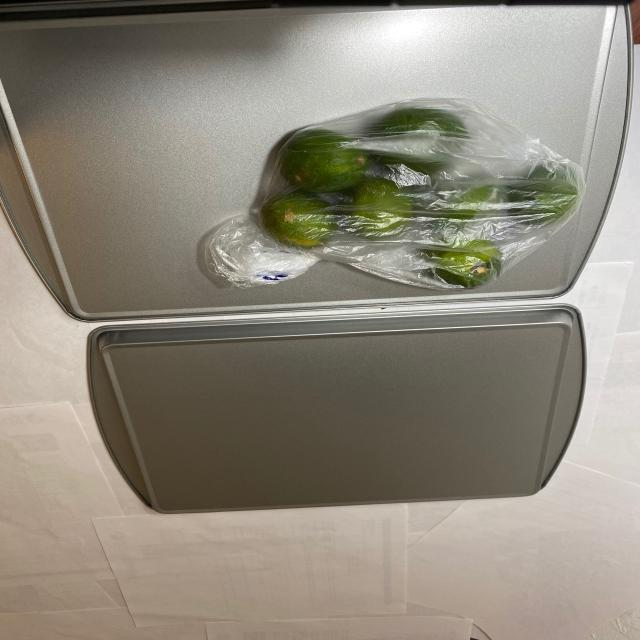lemon: (240, 110, 582, 283)
